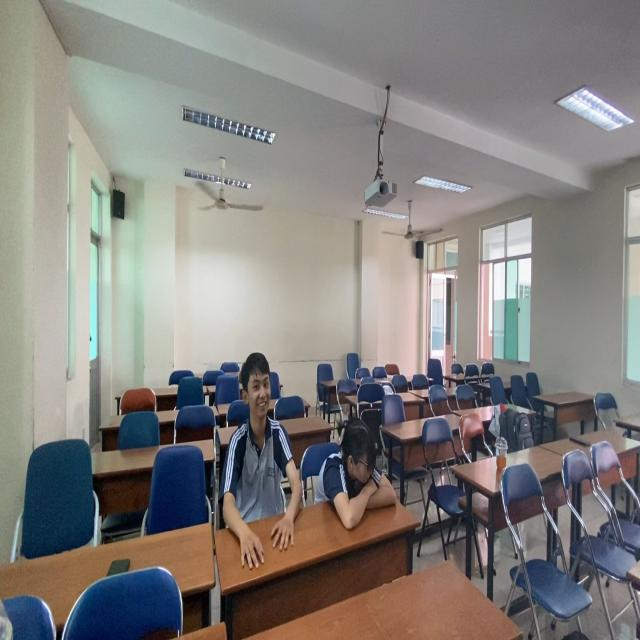sleep: (313, 418, 403, 529)
